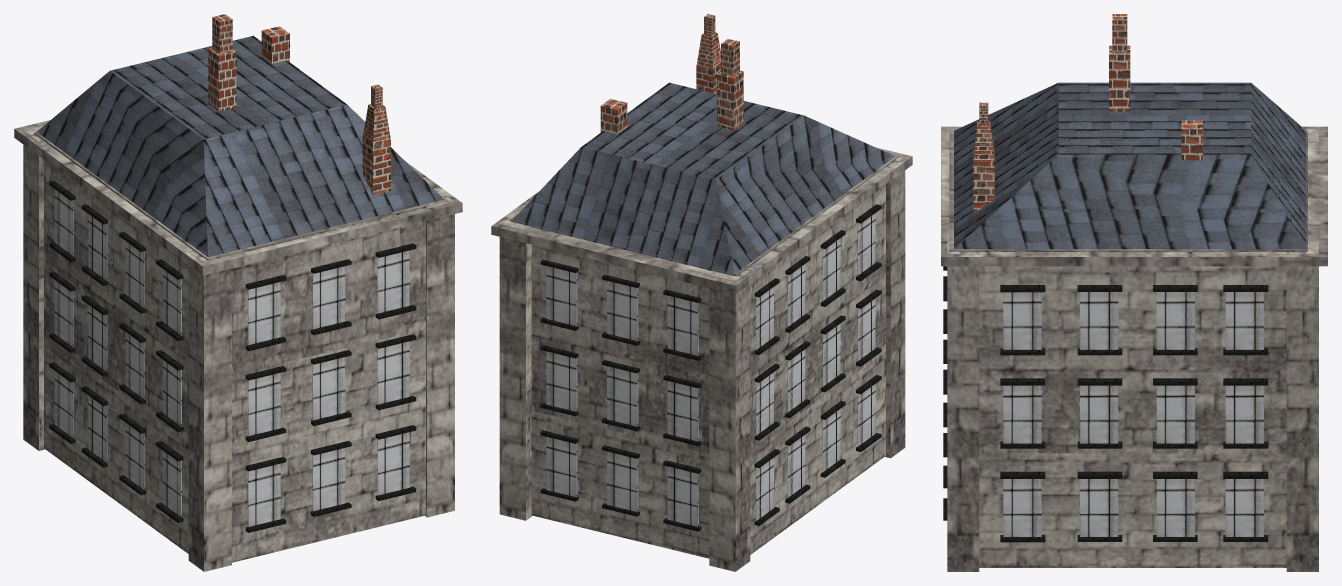
The model's file is home.fbx.
The picture shows the model from 3 angles, left to right: view 1: azimuth 30°, elevation 25°; view 2: azimuth 150°, elevation 25°; view 3: azimuth 270°, elevation 25°; orthographic projection. The views are drawn at different scales.
Visible parts, largest first — view 1: Cube.001, Cube.002, Cube.012, Cube, Cube.004, Cube.017; view 2: Cube.001, Cube.002, Cube.012, Cube, Cube.004, Cube.017; view 3: Cube.001, Cube.002, Cube.012, Cube, Cube.004.
Part boxes in pixels (left/top/right/bottom): Cube.001: left=14, top=120, right=462, bottom=571; Cube.002: left=37, top=35, right=443, bottom=257; Cube.012: left=54, top=189, right=409, bottom=526; Cube: left=49, top=180, right=416, bottom=532; Cube.004: left=208, top=14, right=390, bottom=194; Cube.017: left=156, top=259, right=183, bottom=522; Cube.001: left=491, top=147, right=912, bottom=571; Cube.002: left=511, top=82, right=894, bottom=276; Cube.012: left=546, top=213, right=875, bottom=526; Cube: left=540, top=230, right=845, bottom=531; Cube.004: left=600, top=14, right=743, bottom=134; Cube.017: left=856, top=204, right=881, bottom=451; Cube.001: left=941, top=126, right=1327, bottom=571; Cube.002: left=954, top=82, right=1307, bottom=251; Cube.012: left=1003, top=292, right=1263, bottom=536; Cube: left=943, top=266, right=1268, bottom=542; Cube.004: left=973, top=14, right=1202, bottom=213.
Size of the model in its own units: 1378 by 2366 by 1727.
